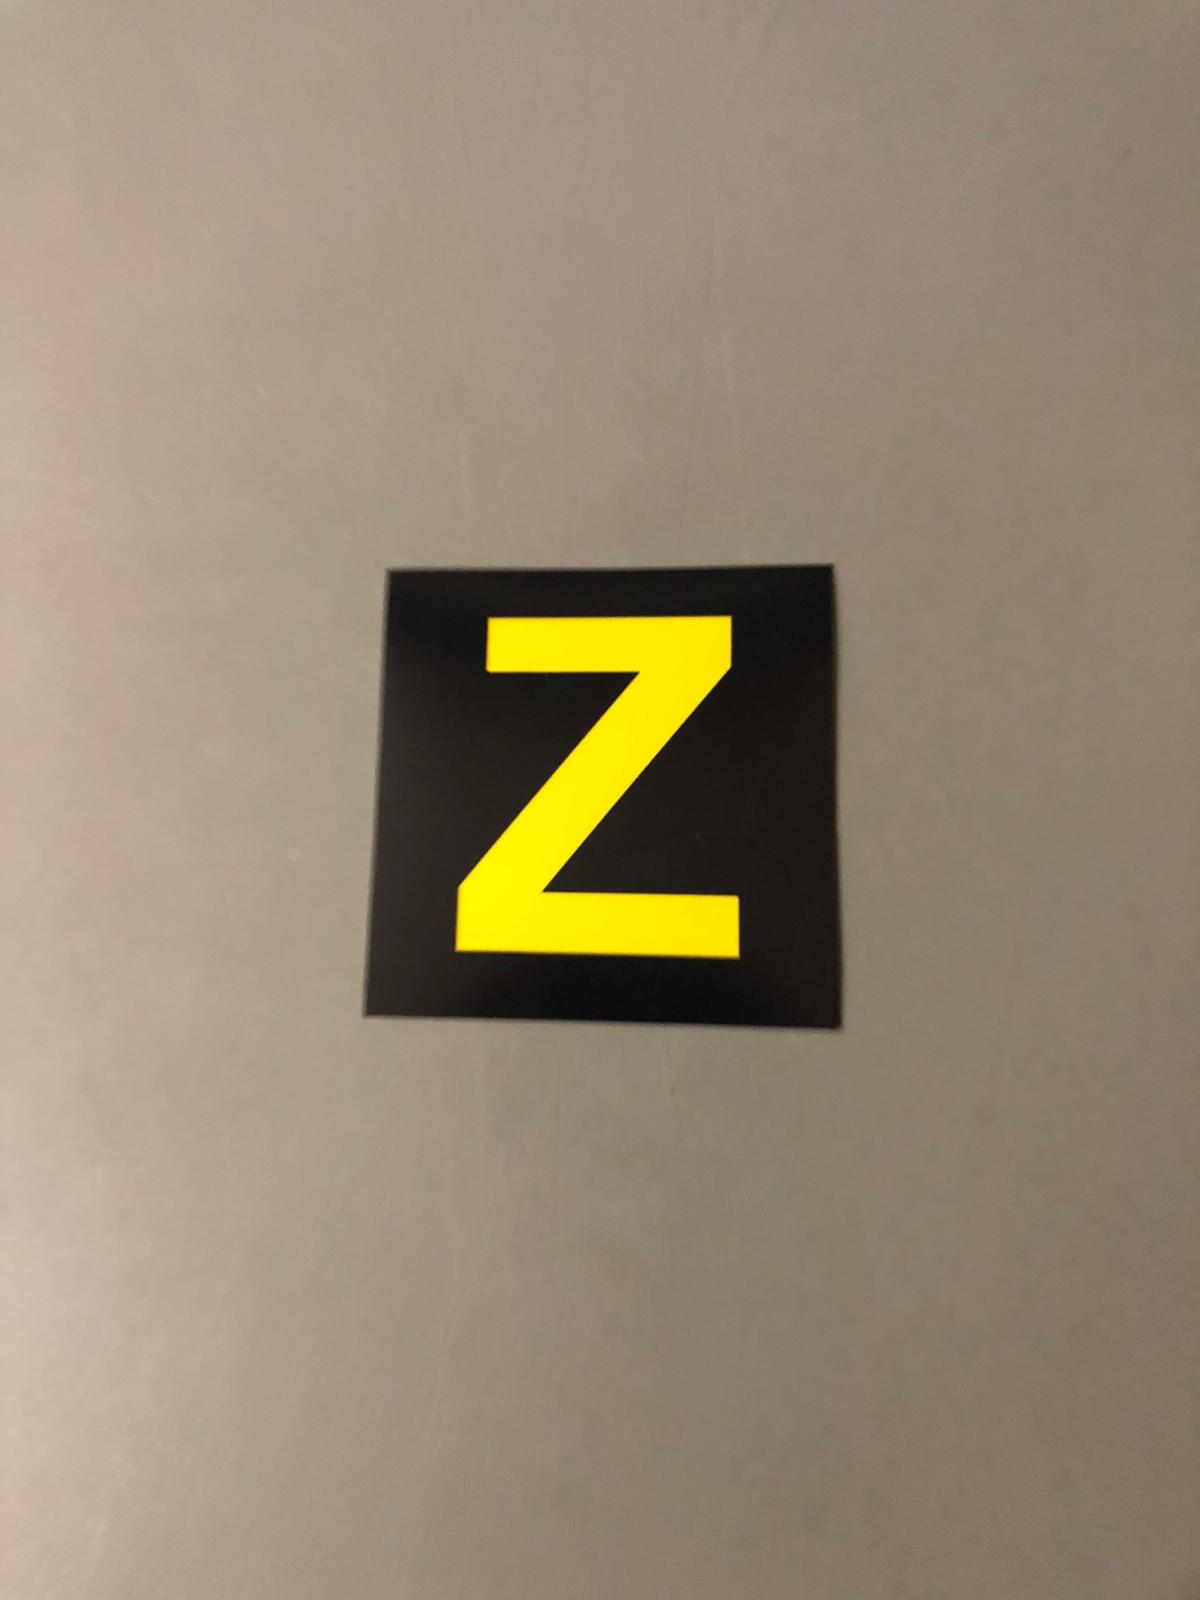Z: (389, 585, 845, 1008)
